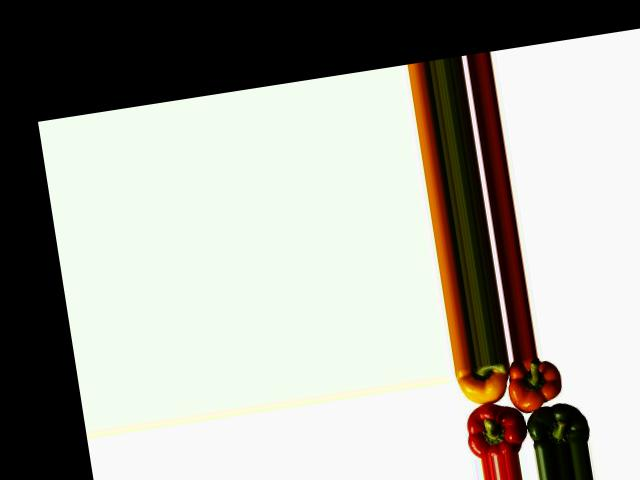bell_pepper: (453, 360, 517, 411)
